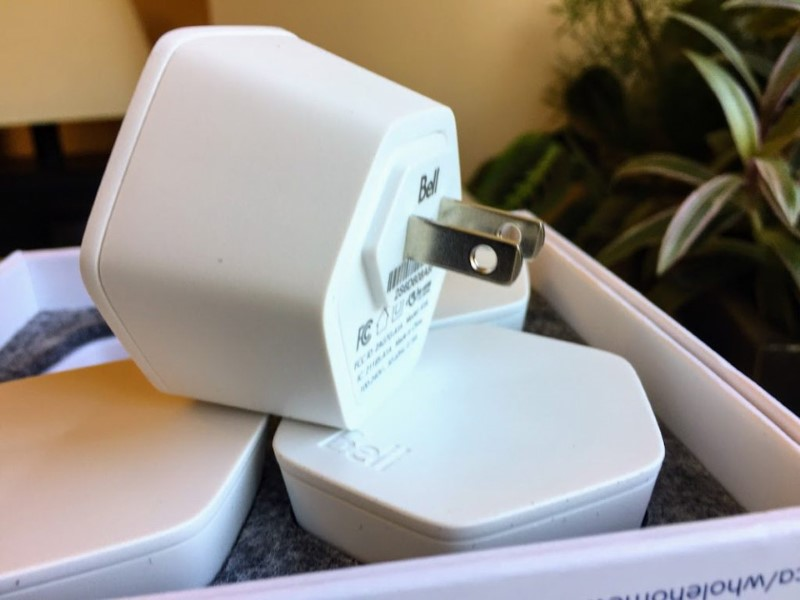pod: (80, 20, 552, 436)
